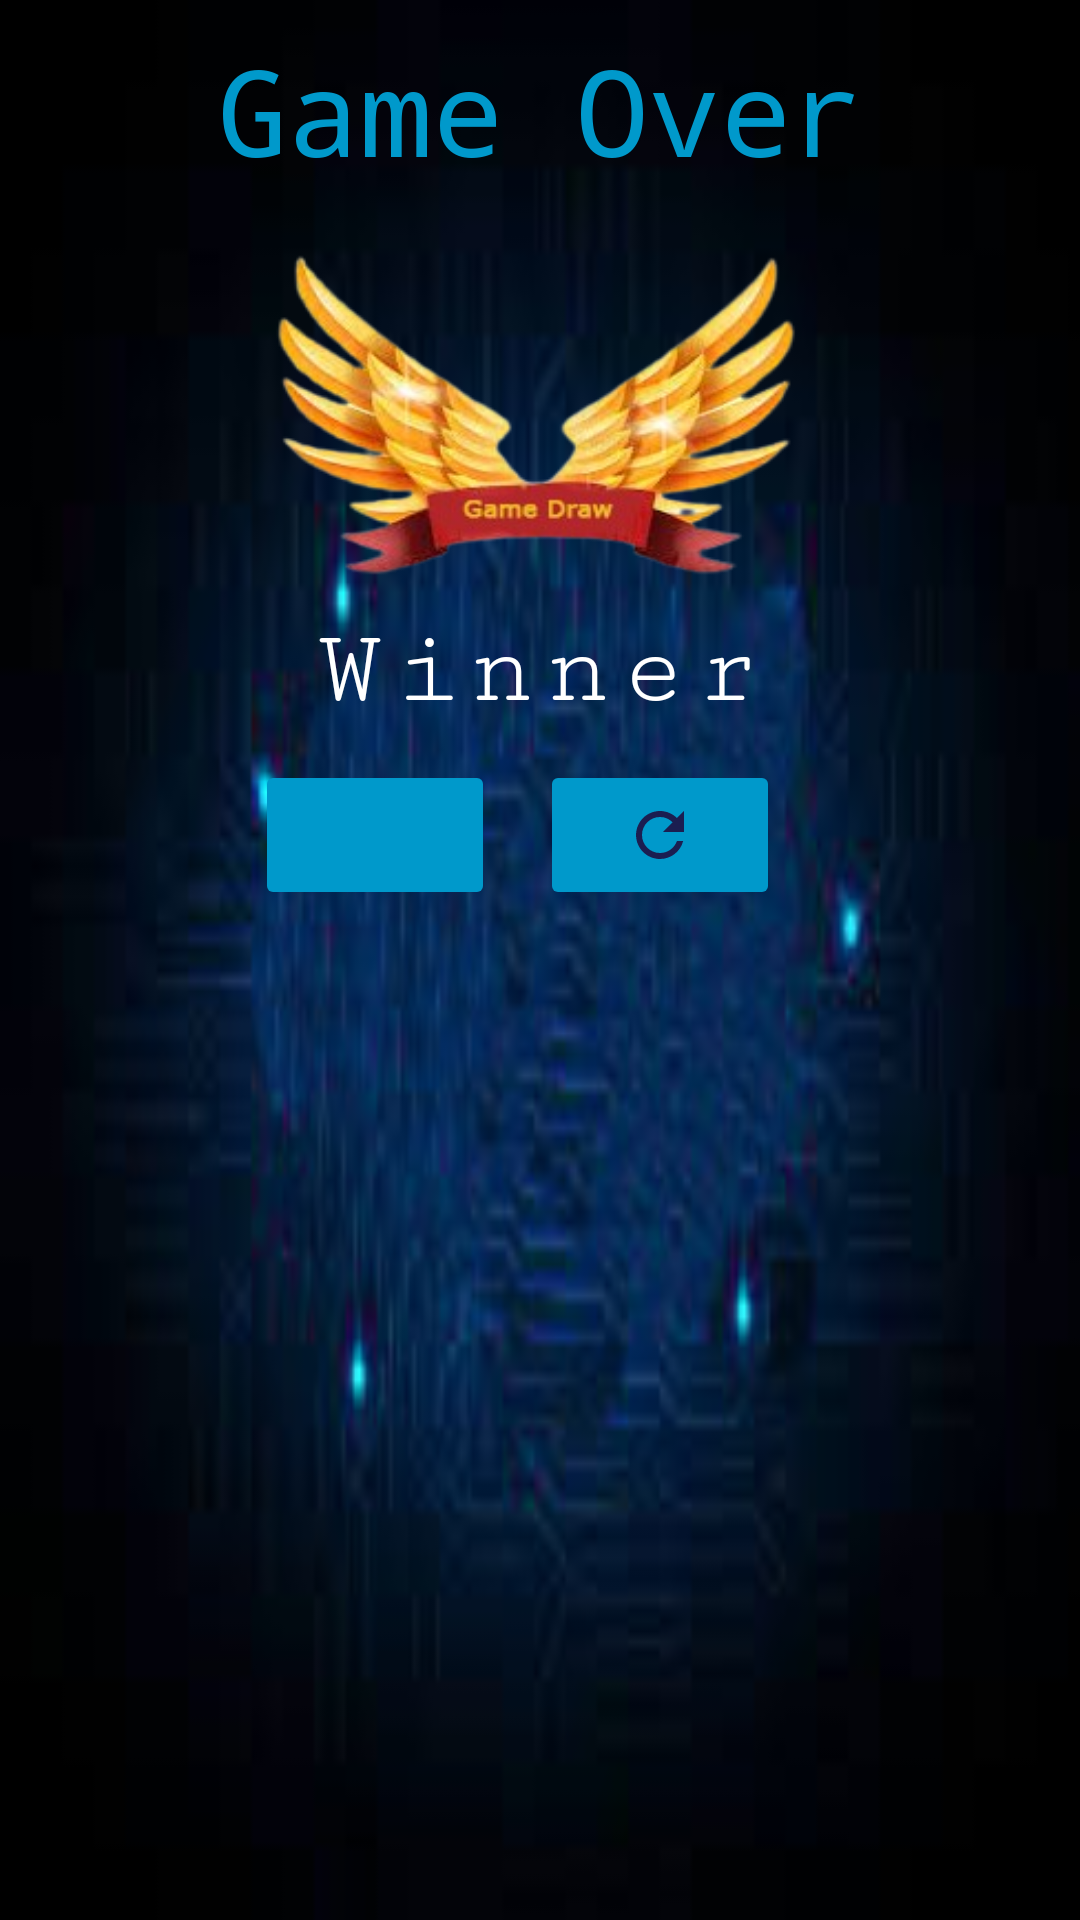

Where to tap for icons on this 1080w x 1920h app screen, as [x,y]:
restart: [660,835]
